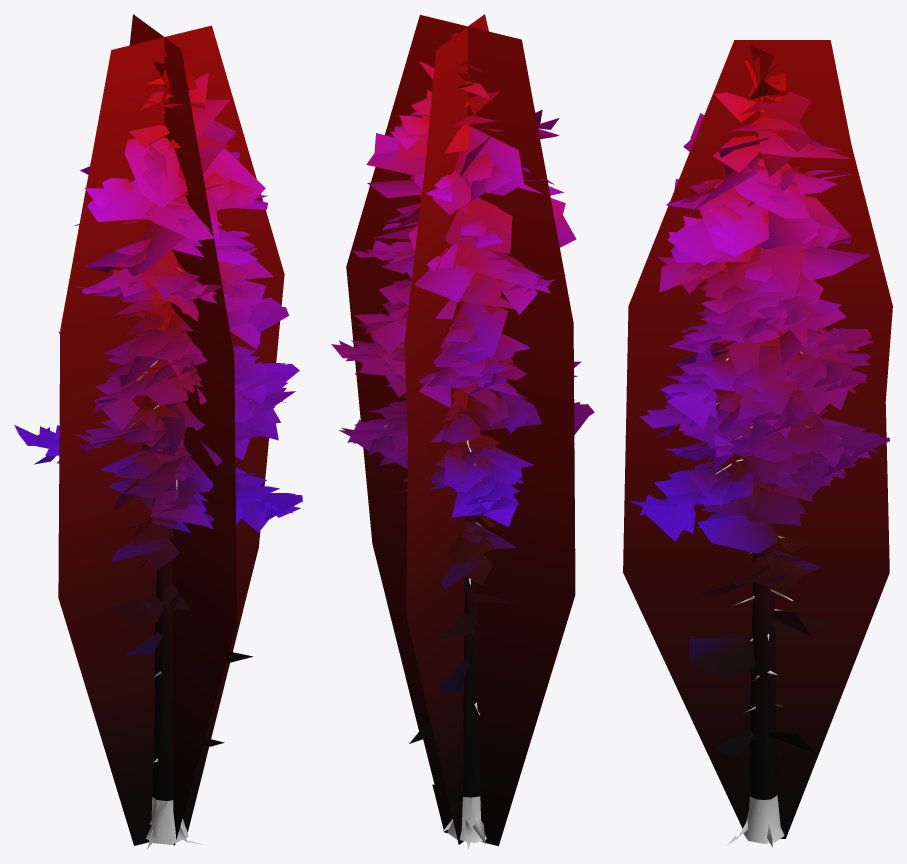
Rendered from Fir05_NM.fbx.
3 renders of one model, left to right at view 1: azimuth 30°, elevation 25°; view 2: azimuth 150°, elevation 25°; view 3: azimuth 270°, elevation 25°, orthographic.
Parts seen in each view (by area): view 1: top (×2), middle (×2), bottom (×2); view 2: top (×2), middle (×2), bottom (×2); view 3: top (×2), middle (×2), bottom (×2).
Boxes of the visible parts, x1,y1,x2,y2 form: top (×2): [14, 14, 302, 767]; middle (×2): [107, 733, 212, 808]; bottom (×2): [121, 785, 204, 849]; top (×2): [331, 14, 594, 763]; middle (×2): [423, 735, 525, 805]; bottom (×2): [432, 784, 511, 849]; top (×2): [623, 40, 892, 757]; middle (×2): [704, 745, 821, 799]; bottom (×2): [726, 794, 802, 847].
Bounding box in the file's own units: 538 × 1826 × 558.
